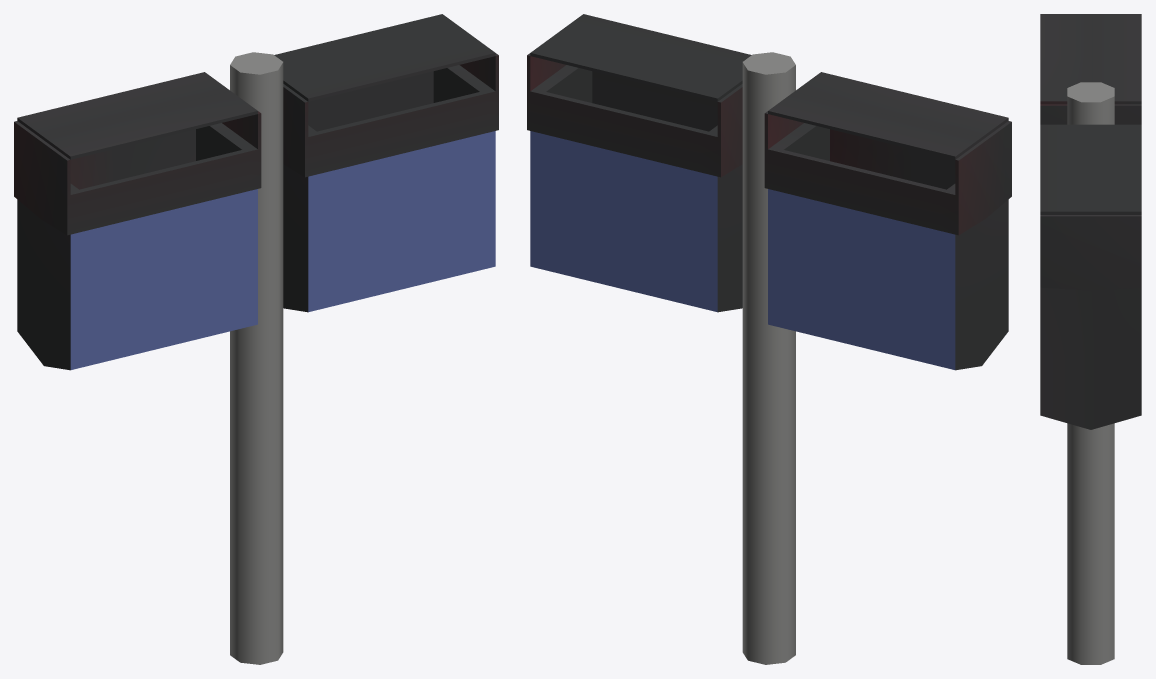
Rendered from DoubleTrash.fbx.
3 renders of one model, left to right at view 1: azimuth 30°, elevation 25°; view 2: azimuth 150°, elevation 25°; view 3: azimuth 270°, elevation 25°, orthographic. The views are drawn at different scales.
Parts seen in each view (by area): view 1: DoubleTrash; view 2: DoubleTrash; view 3: DoubleTrash.
Part boxes in pixels (bbox=[...]): DoubleTrash: bbox=[14, 14, 498, 664]; DoubleTrash: bbox=[527, 14, 1011, 664]; DoubleTrash: bbox=[1040, 14, 1141, 664].
Bounding box in the file's own units: 117 × 152 × 24.87.
Materials: 1 (1 with a texture image).
